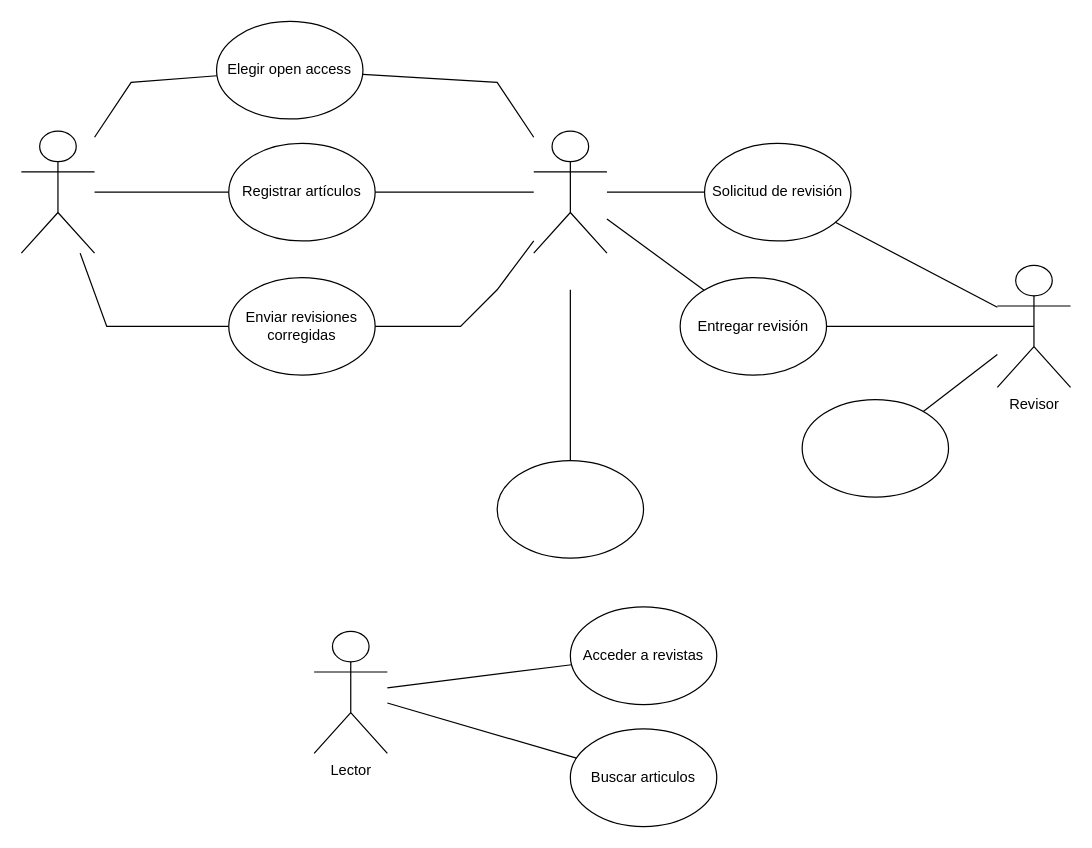
Image size: 1092x848. Some labels were removed from this diagram. Each missing label, with the centre of its shape:
"Autor" belongs at point 57,191.
"comité editorial" belongs at point 570,191.
"Publicar articulo" belongs at point 570,508.
"Revisar articulo" belongs at point 875,447.
